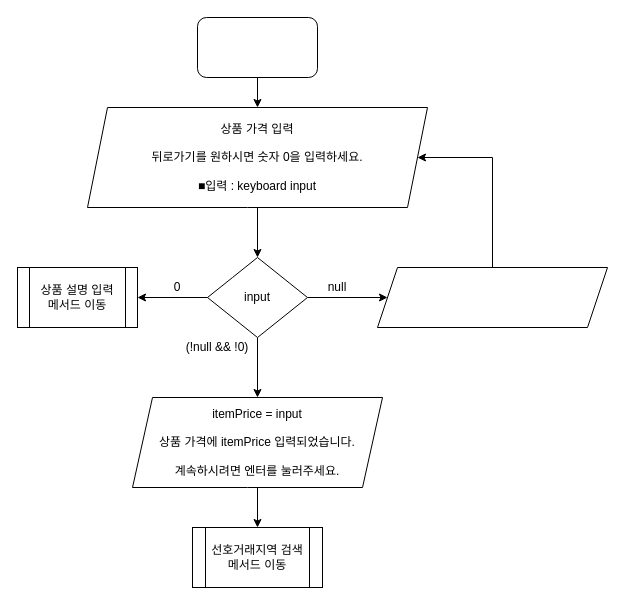
The diagram is 625 pixels wide and 605 high, and some of its shapes have lost their labels. The box of each missing label's shape, as (x1, y1, x2, y2) in pixels:
상품 가격 입력 메서드 이동: (196, 16, 318, 78)
상품 가격을 입력하지 않았습니다. 다시 입력해주세요.: (376, 266, 608, 328)
